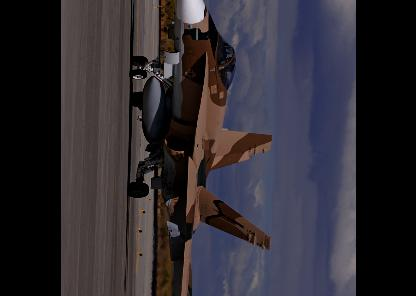F15: (127, 0, 272, 295)
